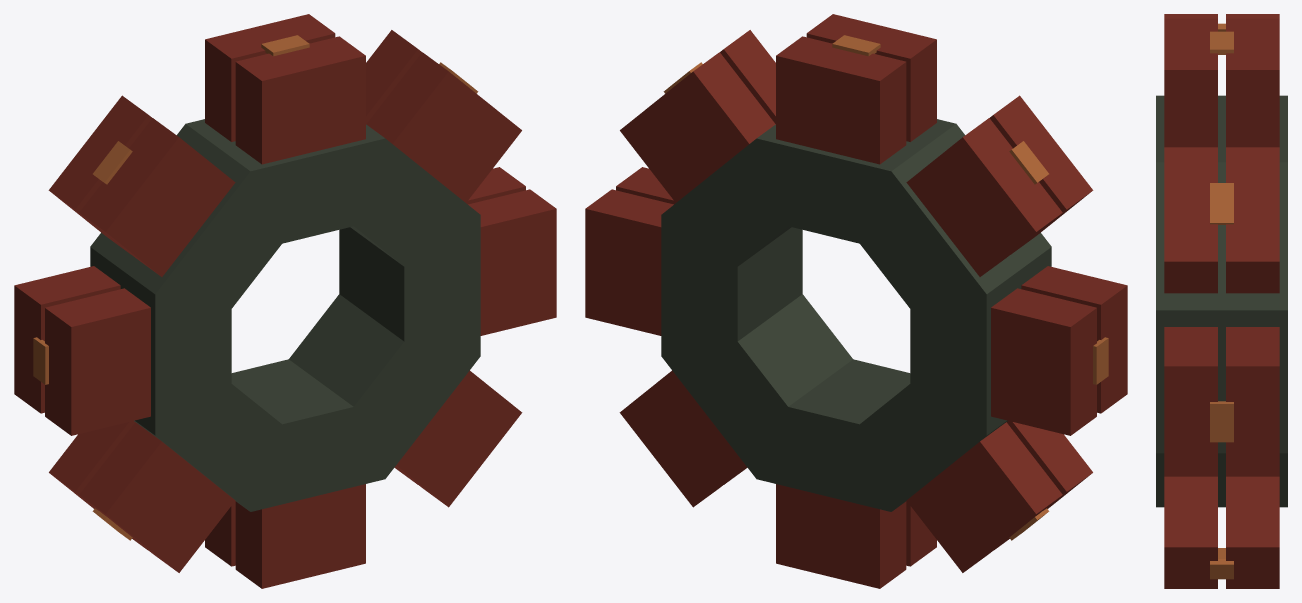
Rendered from tz16v_coil_ring.obj.
3 views of the same model, side by side, from view 1: azimuth 30°, elevation 25°; view 2: azimuth 150°, elevation 25°; view 3: azimuth 270°, elevation 25° (orthographic).
Parts seen in each view (by area): view 1: tz16v_coil_ring; view 2: tz16v_coil_ring; view 3: tz16v_coil_ring.
Boxes of the visible parts, x1,y1,x2,y2 form: tz16v_coil_ring: (14,14,556,588); tz16v_coil_ring: (585,14,1127,588); tz16v_coil_ring: (1156,14,1287,588).
Size of the model in its own units: 2.84 by 2.84 by 0.65.
